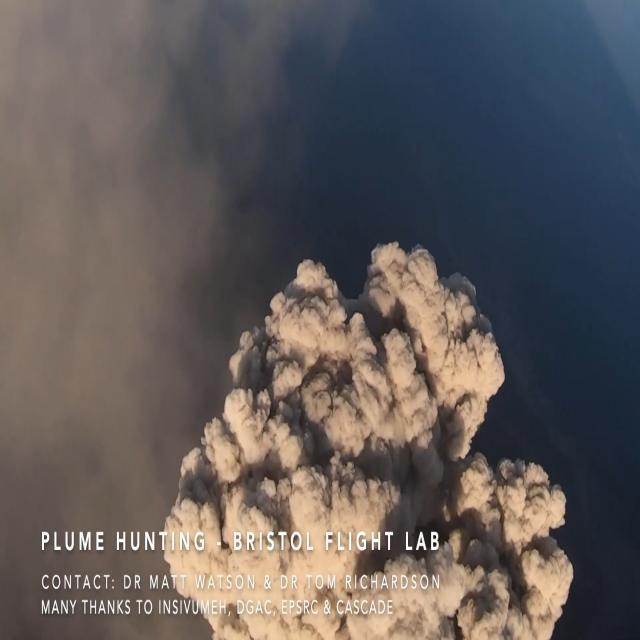Plume: (161, 235, 579, 640)
